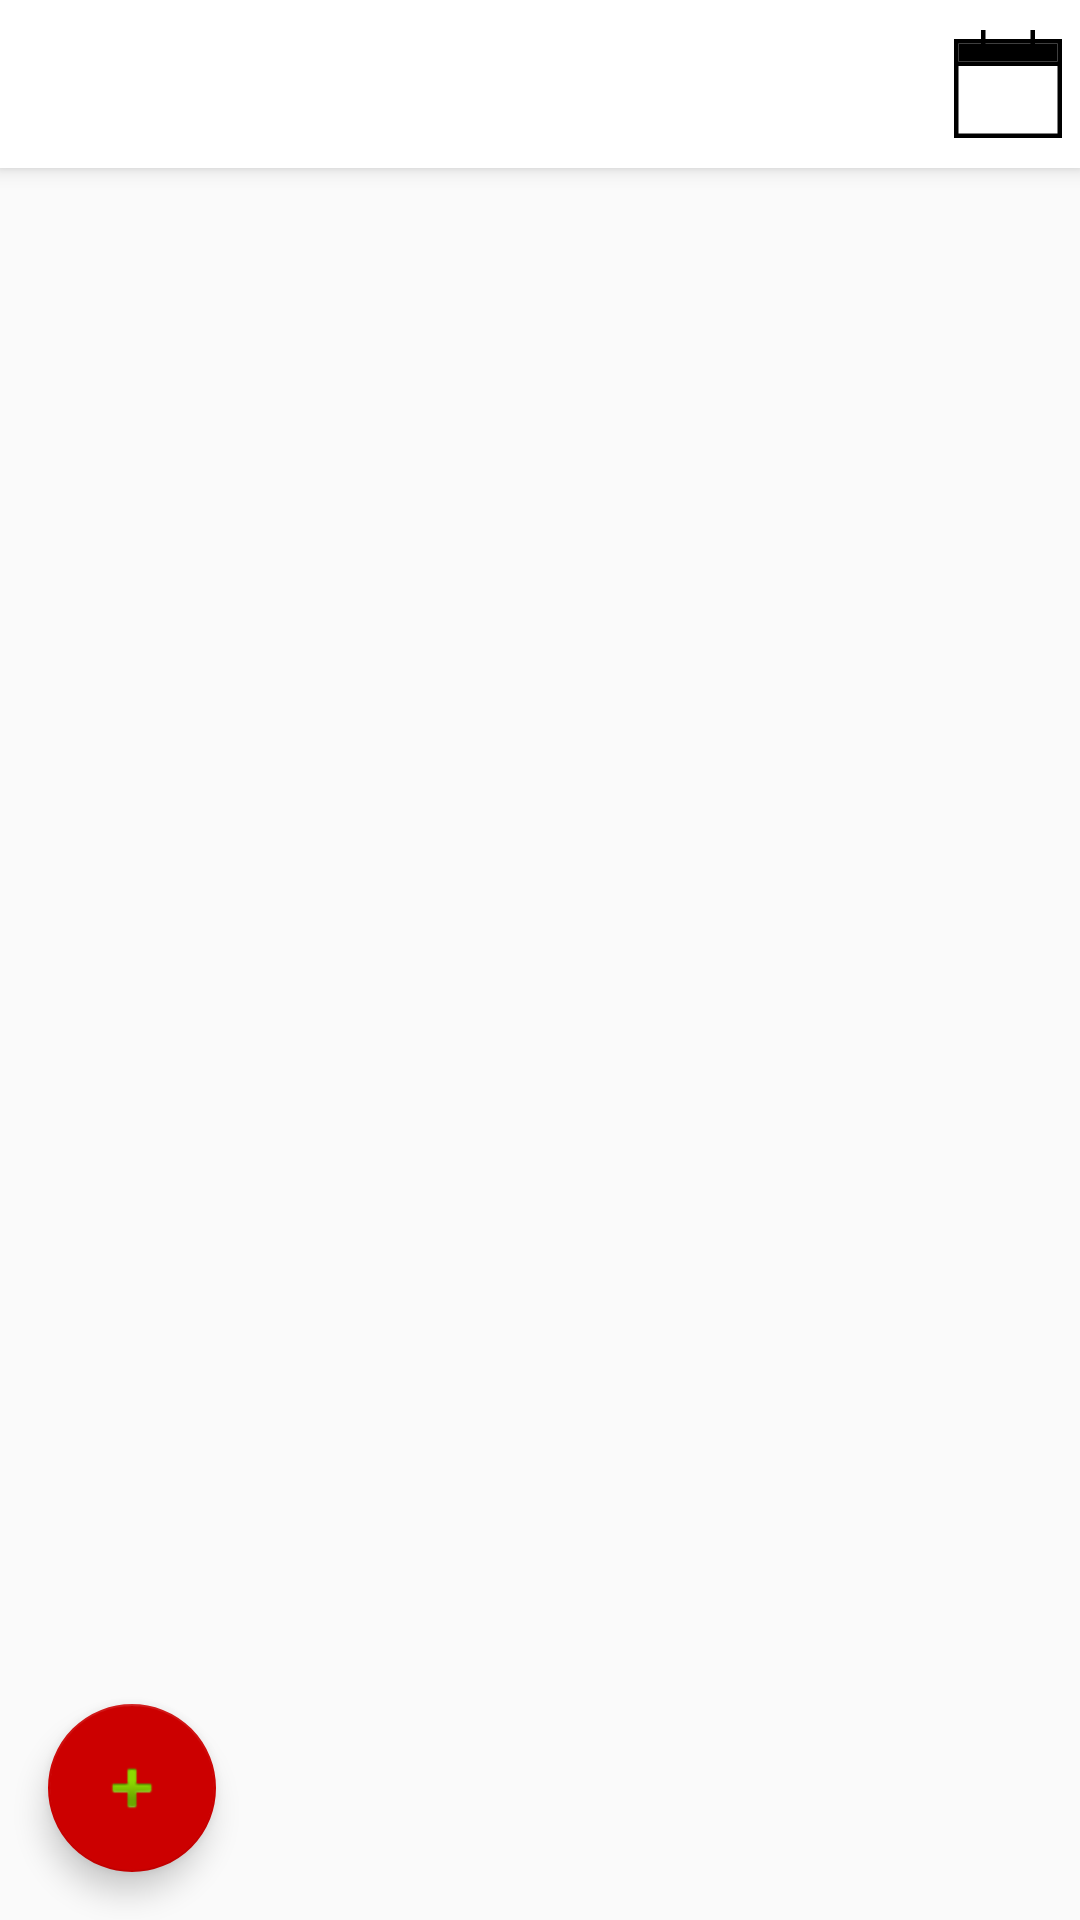

Screen size 1080px×1920px. Icon name, then its box in pixels as box(x1, y1, x2, y2):
add: box(48, 1704, 216, 1872)
calendar frame: box(954, 30, 1062, 138)
